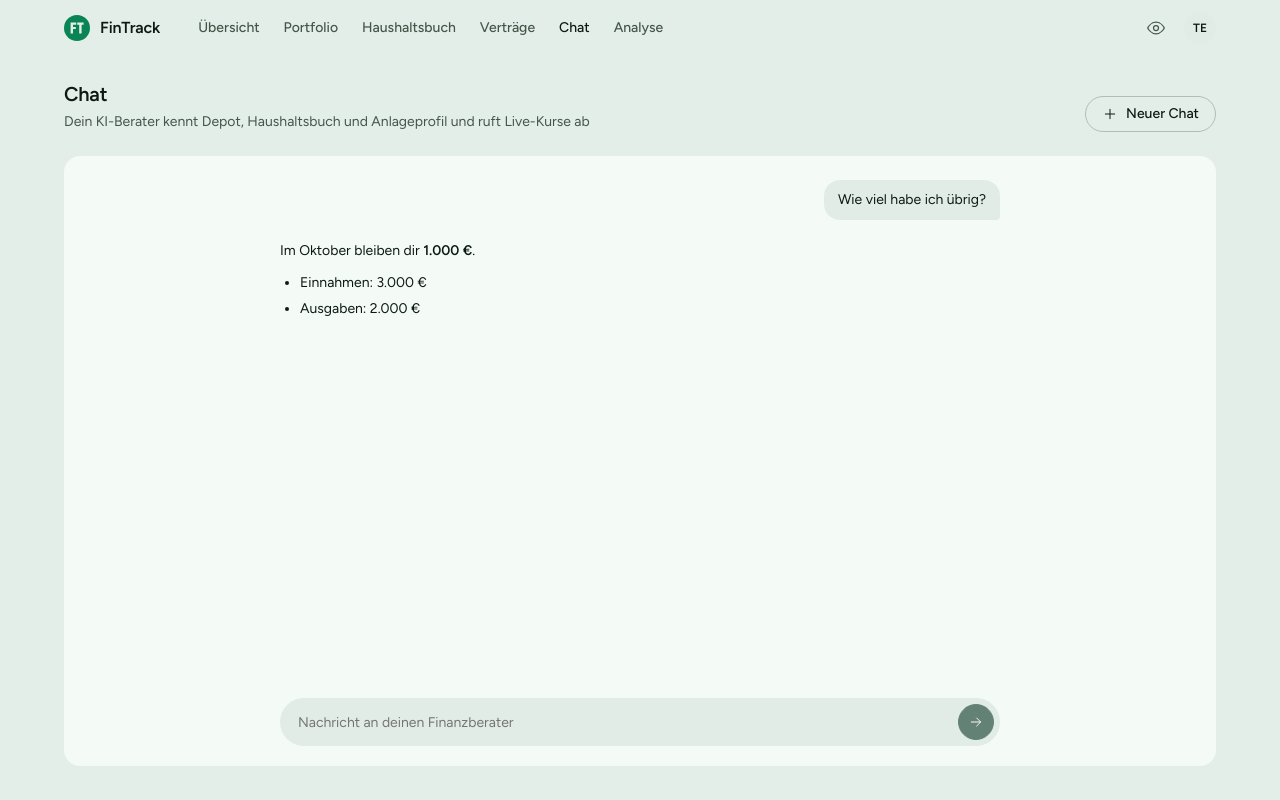
Test: Neuer Chat › löscht den Verlauf nach Rückfrage und zeigt wieder die Vorschläge
This screenshot has width=1280, height=800.
Expected: the text "Wie viel habe ich übrig?" is shown, [824,180,1000,220]
Click the button "Neuer Chat".
click(1151, 114)  # box [1085,96,1216,132]
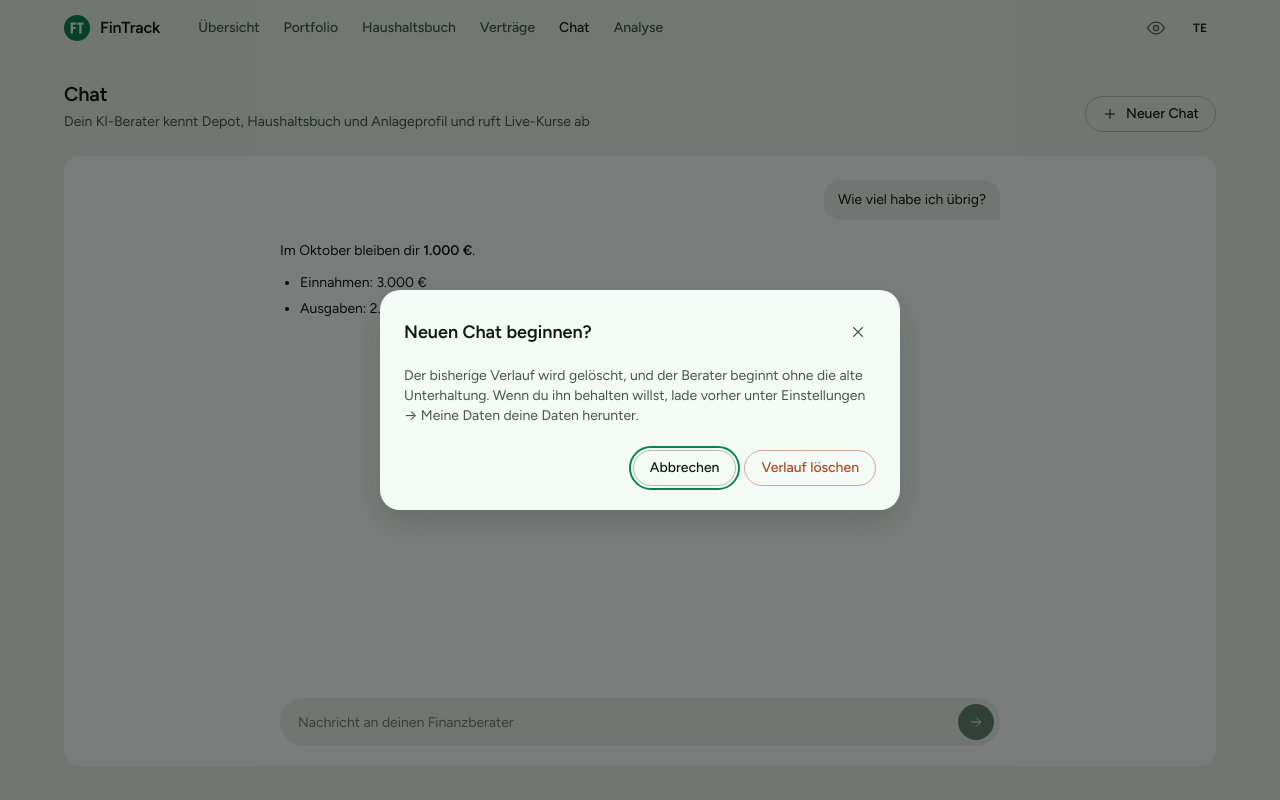
Expected: the dialog "Neuen Chat beginnen?" shows "Einstellungen → Meine Daten", [404,367,865,424]
Click the button "Verlauf löschen".
click(810, 468)  # box [744,450,876,486]
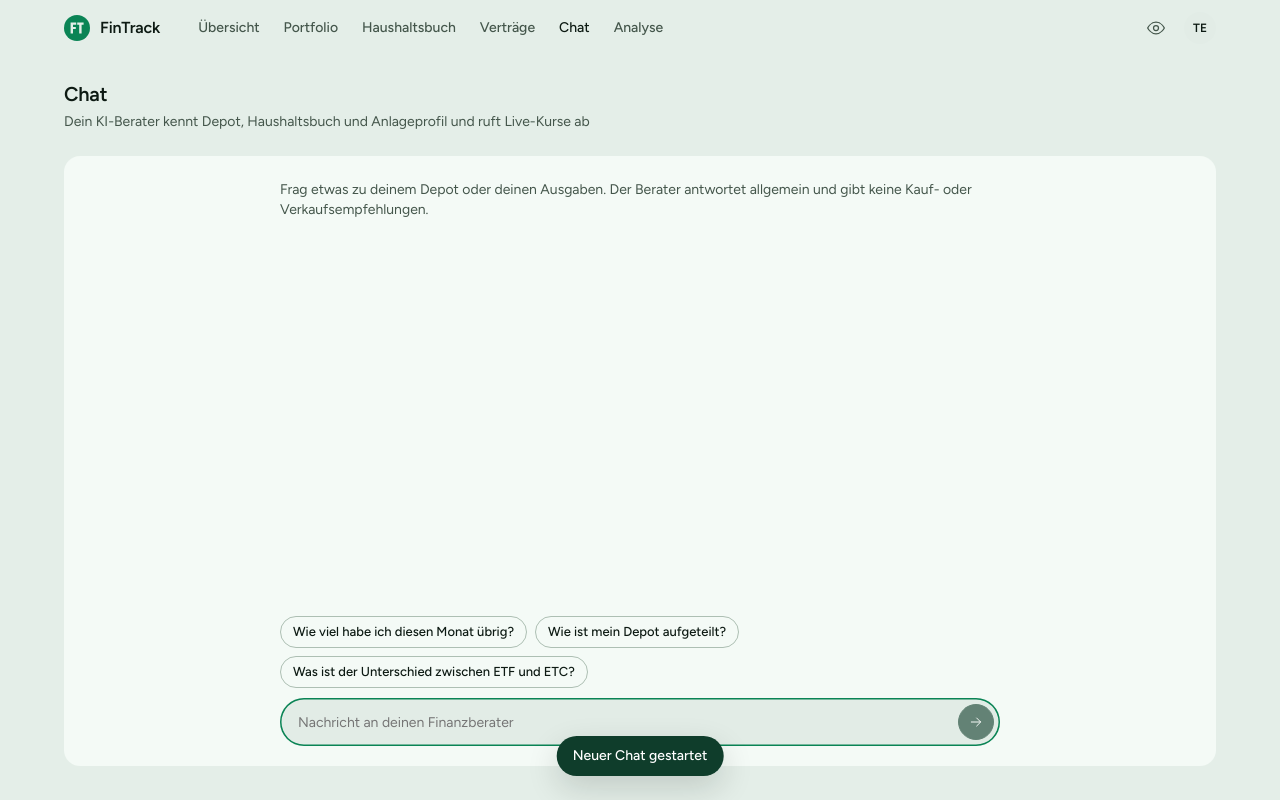
Expected: the text "Neuer Chat gestartet" is shown, [557,736,723,776]
Expected: the text "Wie viel habe ich übrig?" is gone
Expected: the button "Wie viel habe ich diesen Monat übrig?" is shown, [280,616,527,648]
